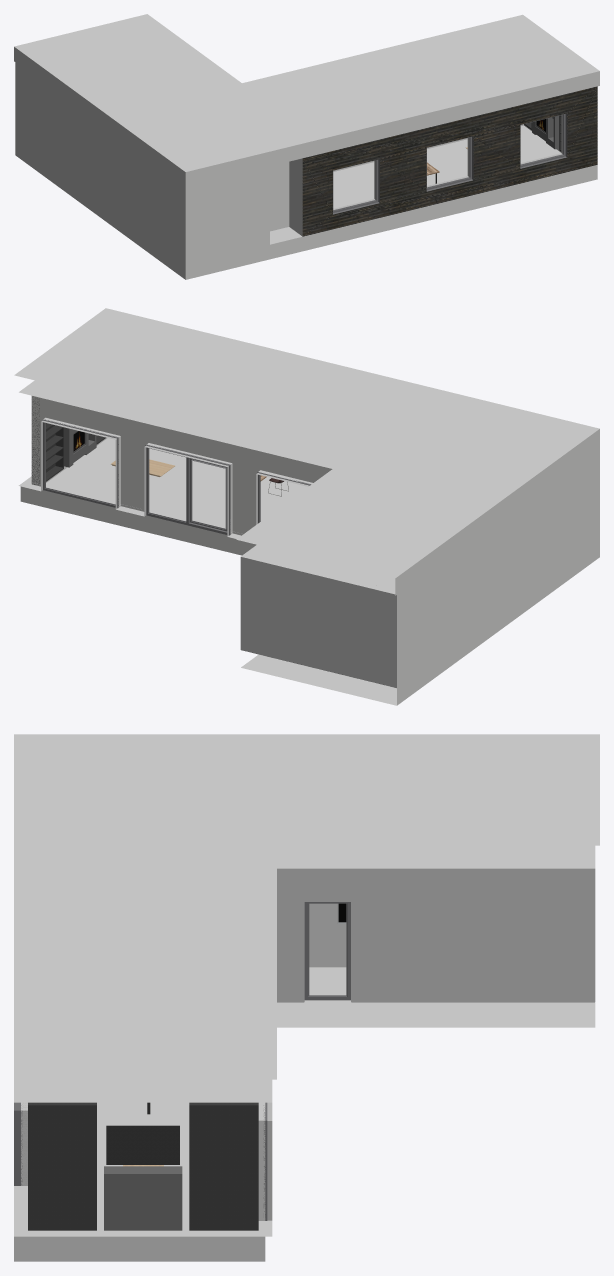
Rendered from casa.fbx.
3 views of the same model, one above another, from view 1: azimuth 30°, elevation 25°; view 2: azimuth 150°, elevation 25°; view 3: azimuth 270°, elevation 25° (orthographic). The views are drawn at different scales.
Visible parts, largest first — view 1: FbxMesh_FbxMesh.100, FbxMesh.004_FbxMesh.166, FbxMesh.008_FbxMesh.706, FbxMesh.043_FbxMesh.034, FbxMesh.005_FbxMesh.207, FbxMesh.609_FbxMesh.390; view 2: FbxMesh_FbxMesh.100, FbxMesh.004_FbxMesh.166, FbxMesh.012_FbxMesh.747, FbxMesh.009_FbxMesh.234, FbxMesh.043_FbxMesh.034, FbxMesh.539_FbxMesh.084, FbxMesh.609_FbxMesh.390, FbxMesh.044_FbxMesh.735; view 3: FbxMesh_FbxMesh.100, FbxMesh.012_FbxMesh.747, FbxMesh.004_FbxMesh.166, FbxMesh.539_FbxMesh.084, FbxMesh.538_FbxMesh.084, FbxMesh.609_FbxMesh.390, FbxMesh.746_FbxMesh.421, FbxMesh.043_FbxMesh.034, FbxMesh.005_FbxMesh.207.
Part boxes in pixels (left/top/right/bottom): FbxMesh_FbxMesh.100: left=14, top=14, right=599, bottom=279; FbxMesh.004_FbxMesh.166: left=15, top=62, right=302, bottom=265; FbxMesh.008_FbxMesh.706: left=302, top=86, right=597, bottom=236; FbxMesh.043_FbxMesh.034: left=333, top=114, right=565, bottom=212; FbxMesh.005_FbxMesh.207: left=333, top=113, right=567, bottom=214; FbxMesh.609_FbxMesh.390: left=532, top=116, right=559, bottom=149; FbxMesh_FbxMesh.100: left=14, top=308, right=599, bottom=705; FbxMesh.004_FbxMesh.166: left=18, top=380, right=599, bottom=687; FbxMesh.012_FbxMesh.747: left=41, top=420, right=396, bottom=687; FbxMesh.009_FbxMesh.234: left=31, top=396, right=332, bottom=533; FbxMesh.043_FbxMesh.034: left=42, top=419, right=311, bottom=535; FbxMesh.539_FbxMesh.084: left=31, top=401, right=63, bottom=484; FbxMesh.609_FbxMesh.390: left=64, top=427, right=96, bottom=467; FbxMesh.044_FbxMesh.735: left=45, top=423, right=260, bottom=529; FbxMesh_FbxMesh.100: left=14, top=734, right=599, bottom=1261; FbxMesh.012_FbxMesh.747: left=267, top=868, right=595, bottom=1220; FbxMesh.004_FbxMesh.166: left=14, top=845, right=595, bottom=1236; FbxMesh.539_FbxMesh.084: left=189, top=1102, right=258, bottom=1230; FbxMesh.538_FbxMesh.084: left=28, top=1102, right=96, bottom=1230; FbxMesh.609_FbxMesh.390: left=104, top=1166, right=182, bottom=1230; FbxMesh.746_FbxMesh.421: left=106, top=1125, right=179, bottom=1164; FbxMesh.043_FbxMesh.034: left=19, top=902, right=350, bottom=1220; FbxMesh.005_FbxMesh.207: left=14, top=1002, right=594, bottom=1185.
Size of the model in its own units: 69.69 by 17.32 by 50.
